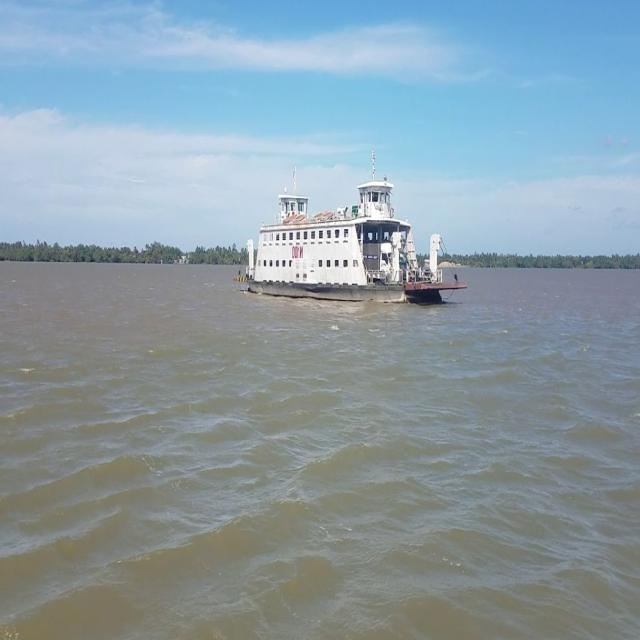passenger ship: (232, 177, 466, 304)
